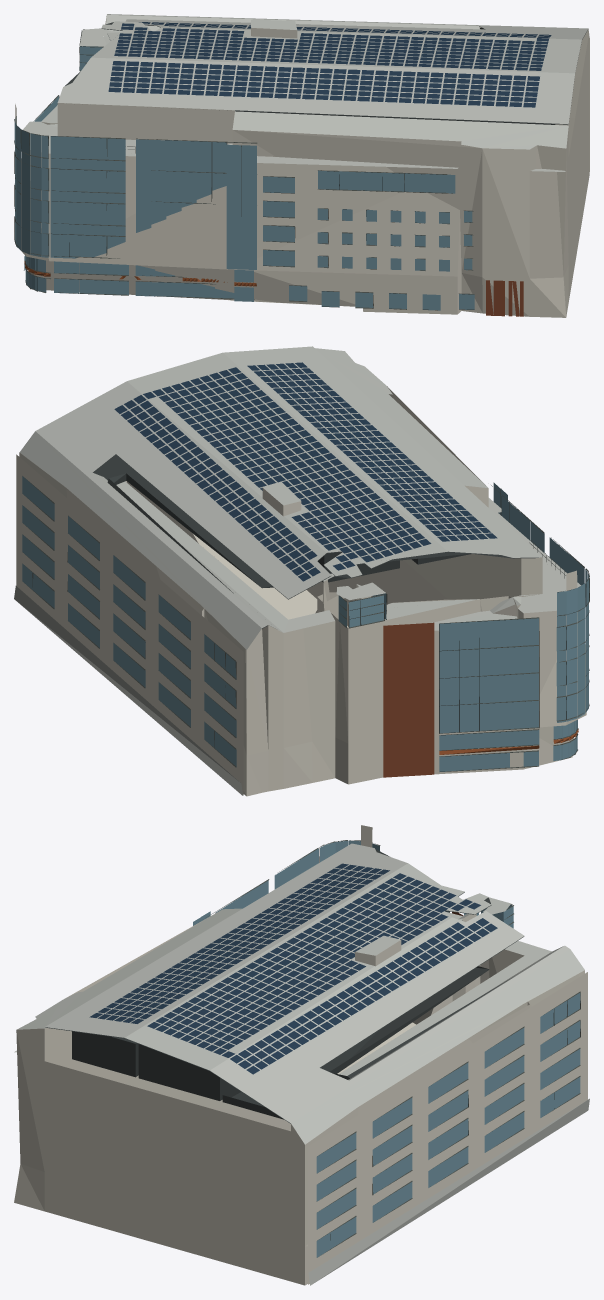
The model's file is academie-theater-dans.lod1.glb.
3 renders of one model, top to bottom at view 1: azimuth 30°, elevation 25°; view 2: azimuth 150°, elevation 25°; view 3: azimuth 270°, elevation 25°, orthographic. The views are drawn at different scales.
Parts seen in each view (by area): view 1: academie-theater-dans; view 2: academie-theater-dans; view 3: academie-theater-dans.
Boxes of the visible parts, bbox=[...] form: academie-theater-dans: bbox=[14, 14, 589, 317]; academie-theater-dans: bbox=[14, 346, 589, 796]; academie-theater-dans: bbox=[14, 825, 589, 1285].
Bounding box in the file's own units: 84.83 × 28.29 × 74.36.
